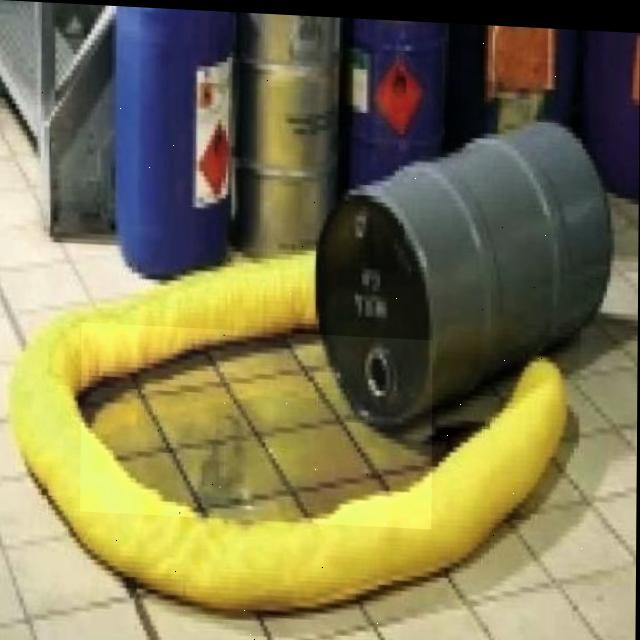spillage: (82, 330, 432, 520)
